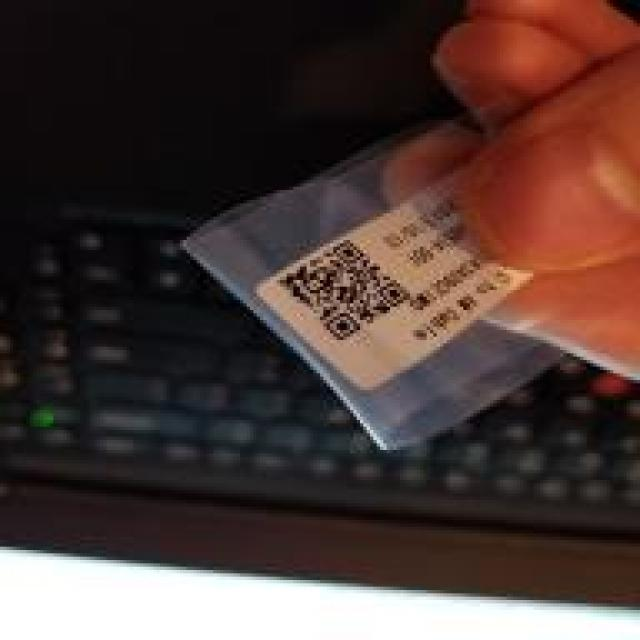qr_code: (278, 239, 410, 340)
